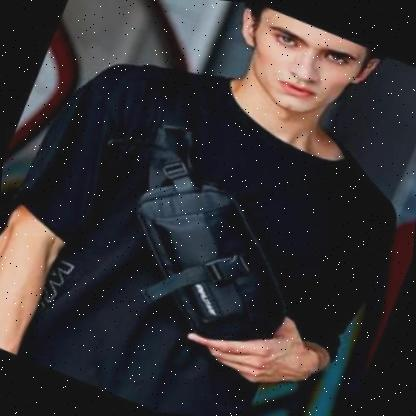bag: (105, 113, 297, 375)
